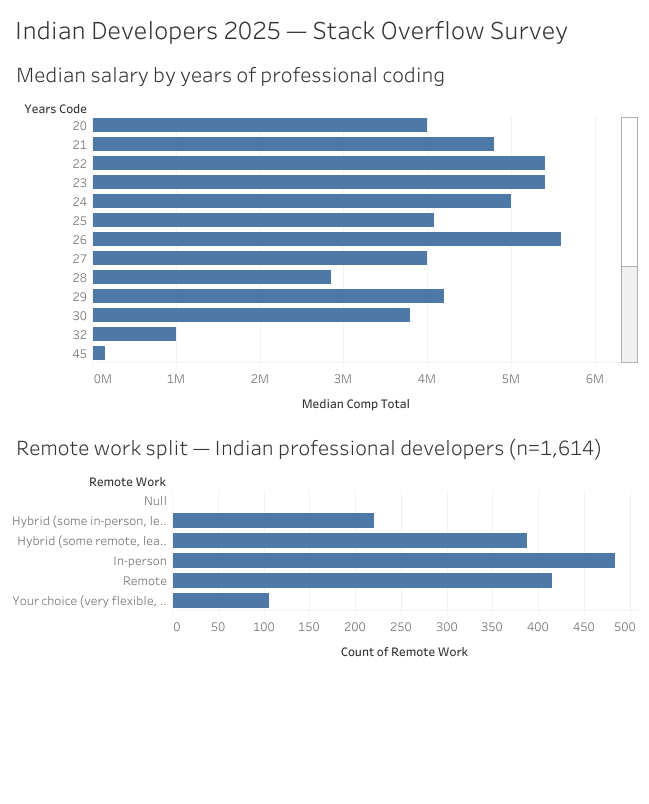

The dashboard page shown, as its layout file describes it:
{"tool":"tableau","page":{"name":"Indian Developers 2025 — Stack Overflow Survey","canvas":[650,860],"ordinal":0},"visuals":[{"type":"title","box":[8,9.9,634,51.7]},{"type":"worksheet","title":"Median salary by years of professional coding","mark":"Automatic","rows":["YearsCode"],"cols":["CompTotal"],"box":[8,61.6,634,394.3]},{"type":"worksheet","title":"Remote work split — Indian professional developers (n=1,614)","mark":"Automatic","rows":["RemoteWork"],"cols":["RemoteWork"],"box":[8,455.9,634,394.3]}]}

Visuals, with their boxes on the page's 650x860 design canvas (x1, y1, x2, y2). These are canvas units, not pixel positions in the 649x804 screenshot, which may show the page scaled, cropped or inside an application window:
title: [x1=8, y1=10, x2=642, y2=62]
"Median salary by years of professional coding" worksheet: [x1=8, y1=62, x2=642, y2=456]
"Remote work split — Indian professional developers (n=1,614)" worksheet: [x1=8, y1=456, x2=642, y2=850]
